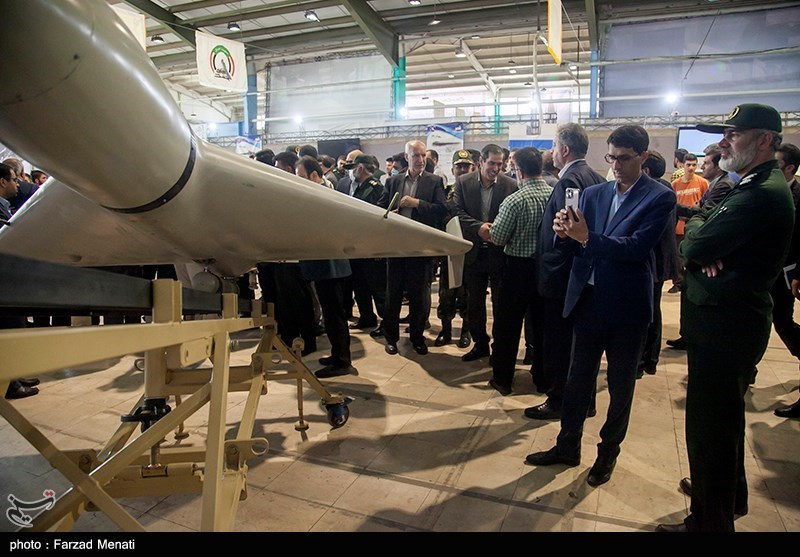shahed: (0, 0, 477, 288)
